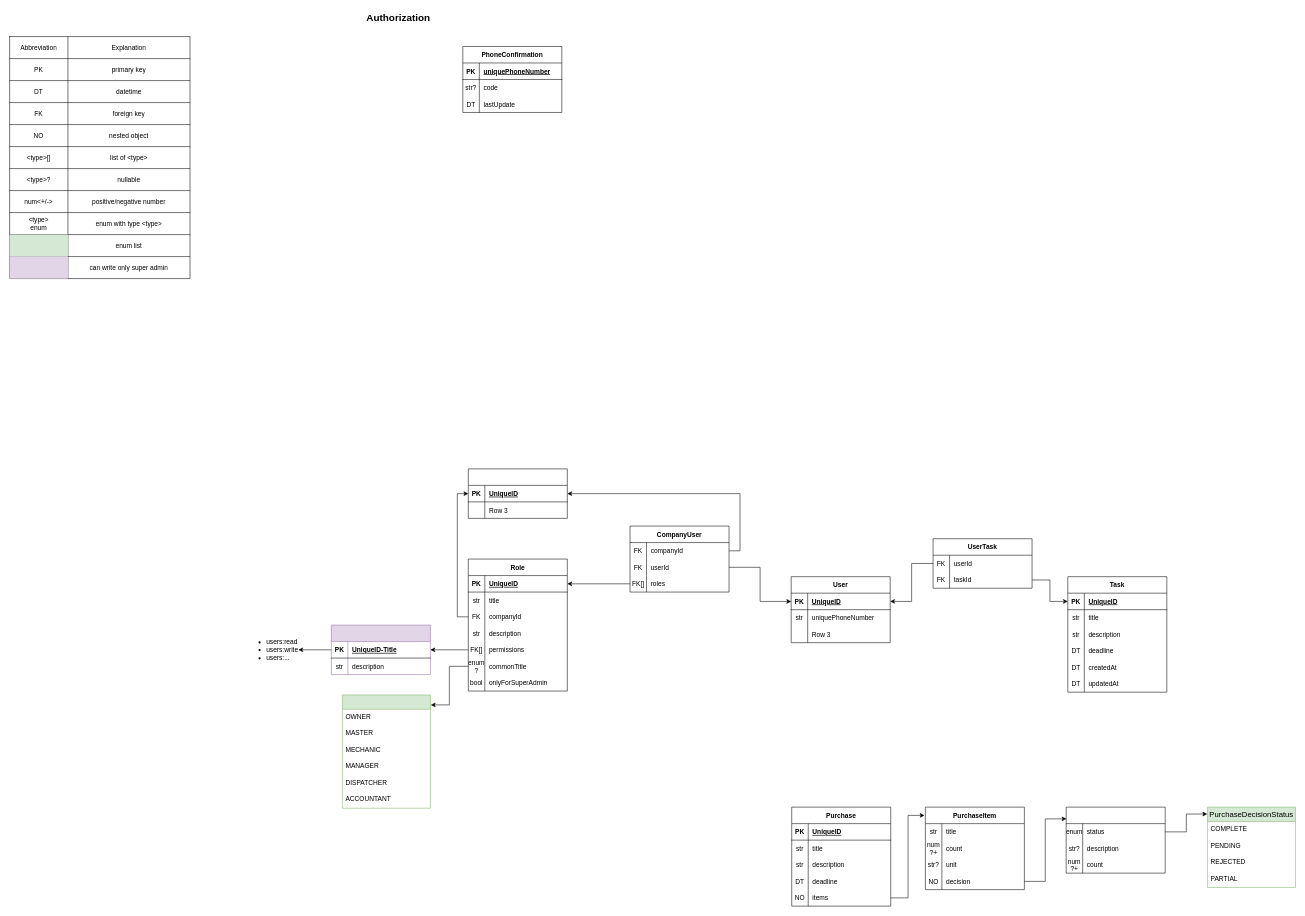
This 1305x916 diagram has some shape labels left out. Here are the shapes that lost their labels. From the top down, the box of each, then its label:
(468, 468, 567, 518): Company
(331, 625, 430, 675): Permission
(342, 694, 430, 808): CommonRolesTitle
(1066, 807, 1165, 873): PurchaseDecision
